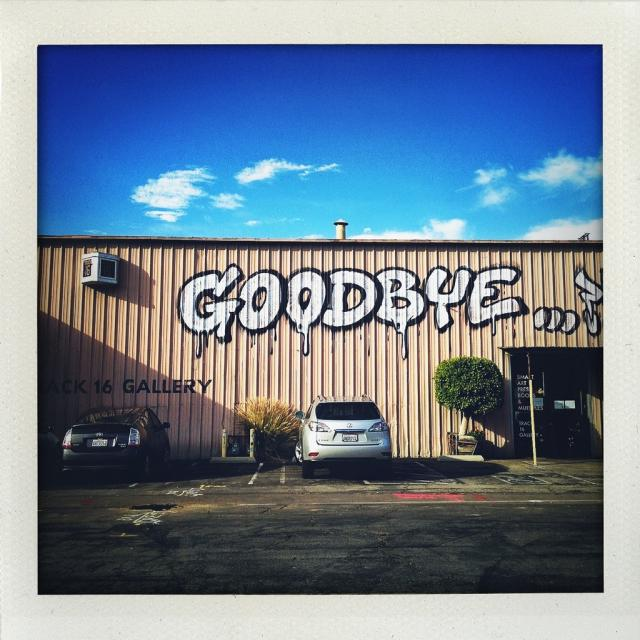car: (58, 407, 171, 478), (294, 396, 390, 474)
